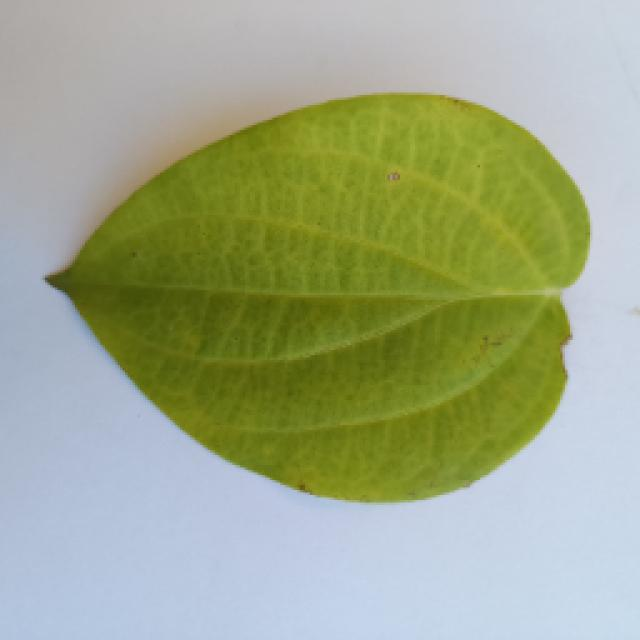slow-decline: (28, 87, 618, 515)
